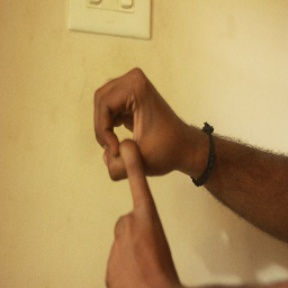Q: (82, 63, 197, 288)
